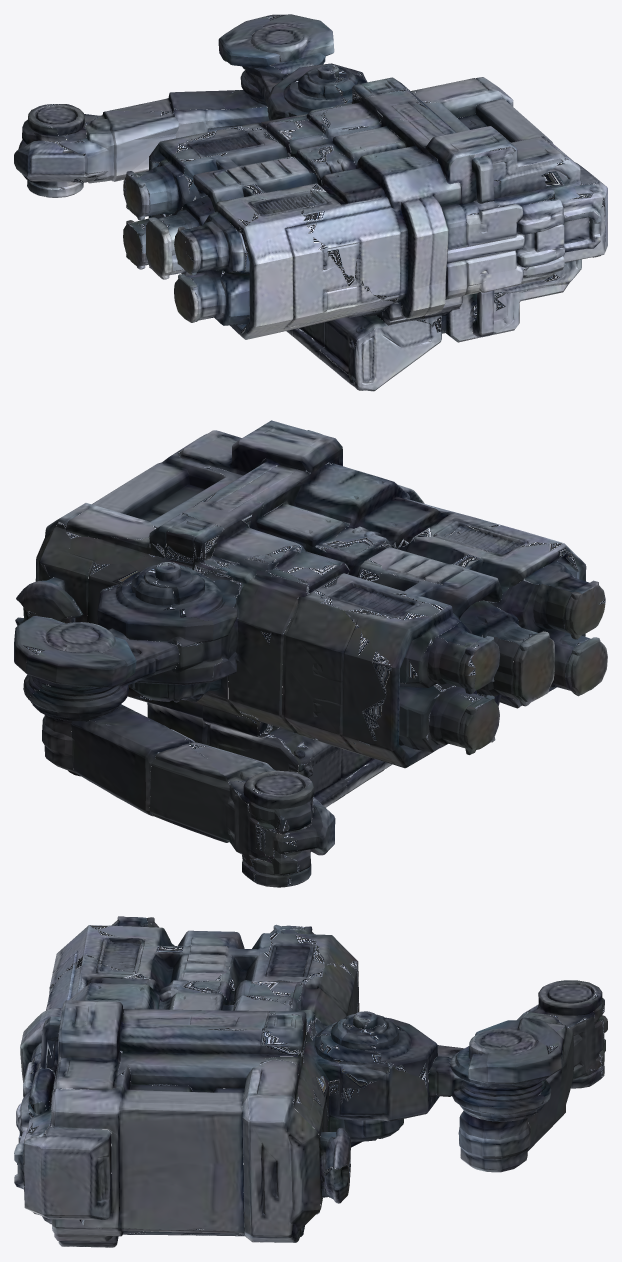
File: HL_WPN_GrayModules_05.glb
3 views of the same model, one above another, from view 1: azimuth 30°, elevation 25°; view 2: azimuth 150°, elevation 25°; view 3: azimuth 270°, elevation 25° (orthographic). The views are drawn at different scales.
Parts seen in each view (by area): view 1: meshes[0]; view 2: meshes[0]; view 3: meshes[0].
Boxes of the visible parts, x1,y1,x2,y2 form: meshes[0]: (14,14,607,391); meshes[0]: (14,420,607,887); meshes[0]: (14,916,607,1247).
Size of the model in its own units: 0.308 by 0.1694 by 0.3595.
1 material, 1 textured.
